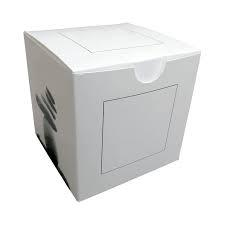cube: (23, 23, 200, 198)
